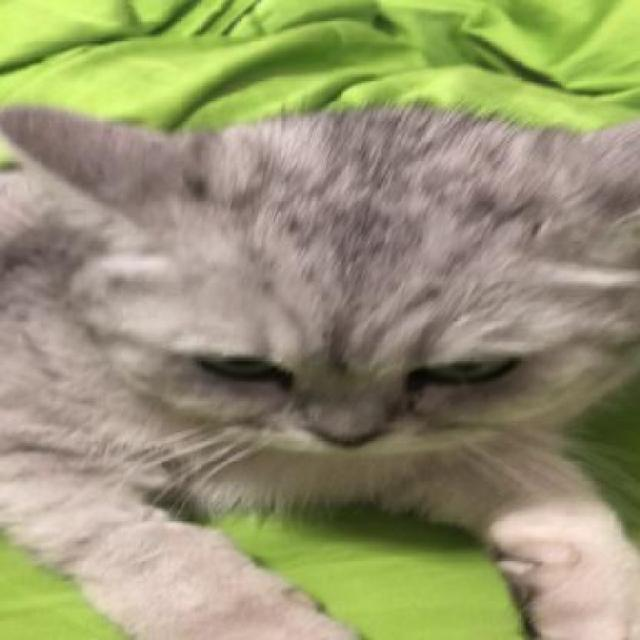cat-face: (15, 104, 640, 456)
